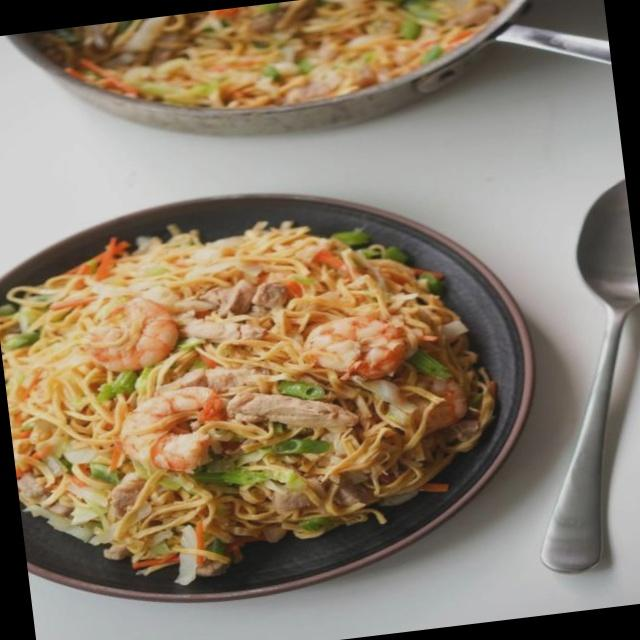pancit bihon: (0, 233, 496, 575)
